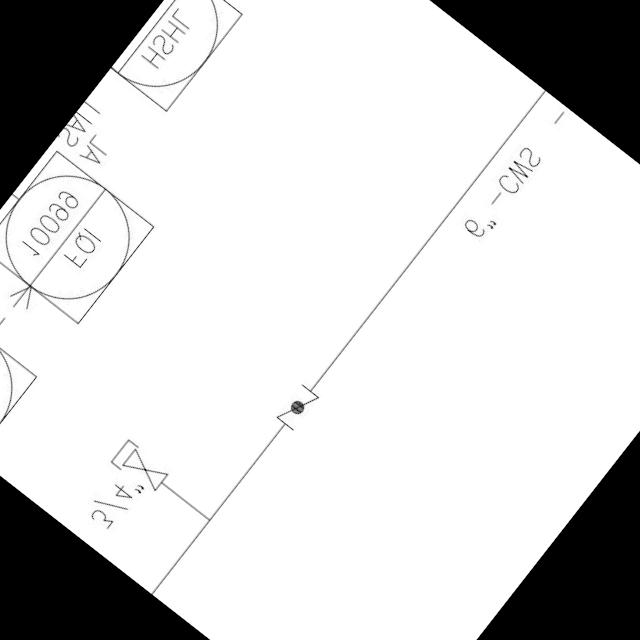EC: (104, 431, 202, 520)
GV: (118, 444, 176, 498)
